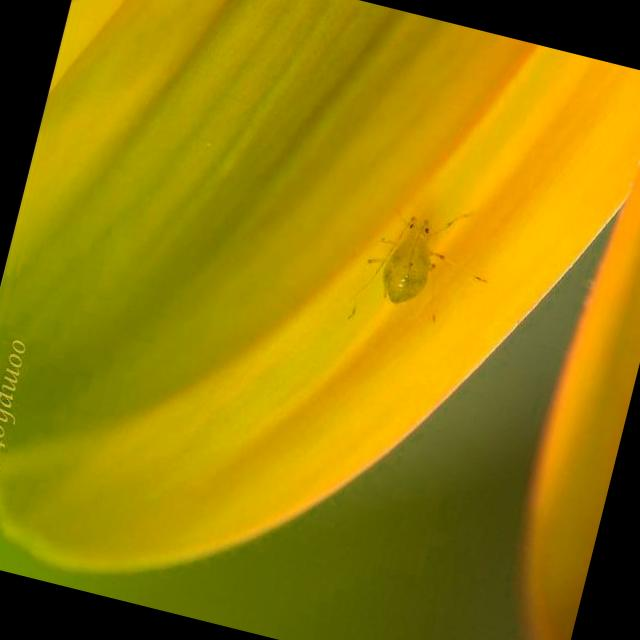aphid: (336, 185, 504, 354)
